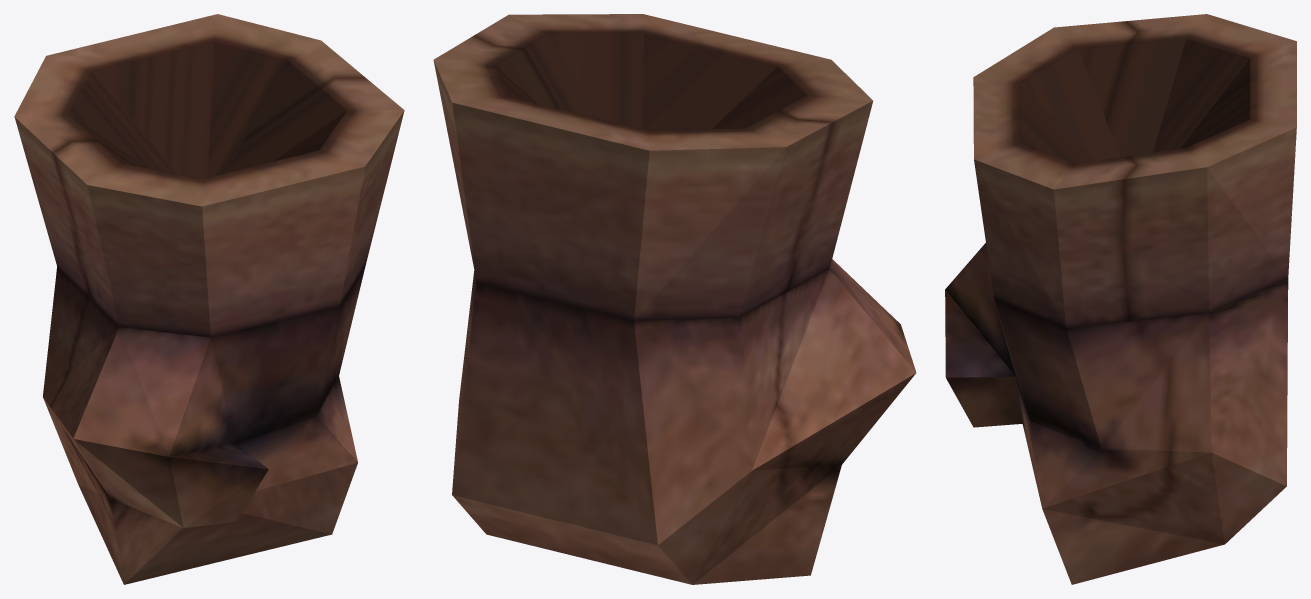
File: Panda_noviceGauntlet_left.obj
3 views of the same model, side by side, from view 1: azimuth 30°, elevation 25°; view 2: azimuth 150°, elevation 25°; view 3: azimuth 270°, elevation 25° (orthographic). The views are drawn at different scales.
Visible parts, largest first — view 1: Panda_noviceGauntlet_tri [left]; view 2: Panda_noviceGauntlet_tri [left]; view 3: Panda_noviceGauntlet_tri [left].
Boxes of the visible parts, left/top/right/bottom form: Panda_noviceGauntlet_tri [left]: left=14, top=14, right=404, bottom=584; Panda_noviceGauntlet_tri [left]: left=433, top=14, right=916, bottom=584; Panda_noviceGauntlet_tri [left]: left=945, top=14, right=1296, bottom=584.
Bounding box in the file's own units: 0.1203 × 0.1481 × 0.1038.
1 material, 1 textured.
